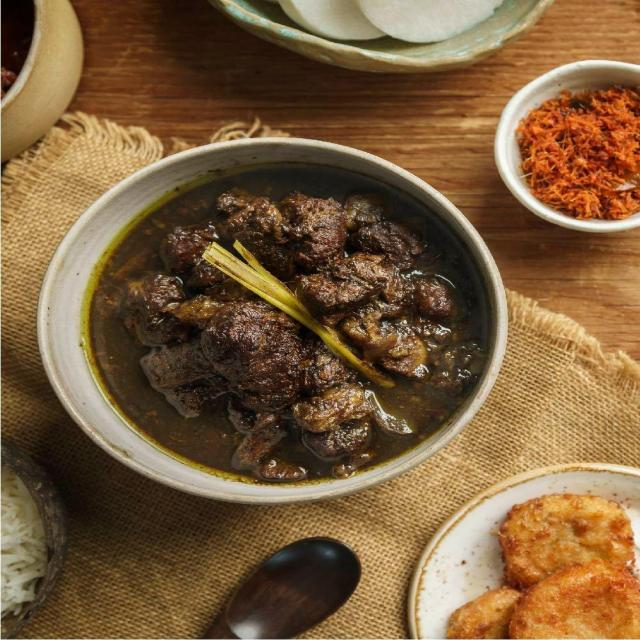Rawon: (74, 152, 500, 482)
